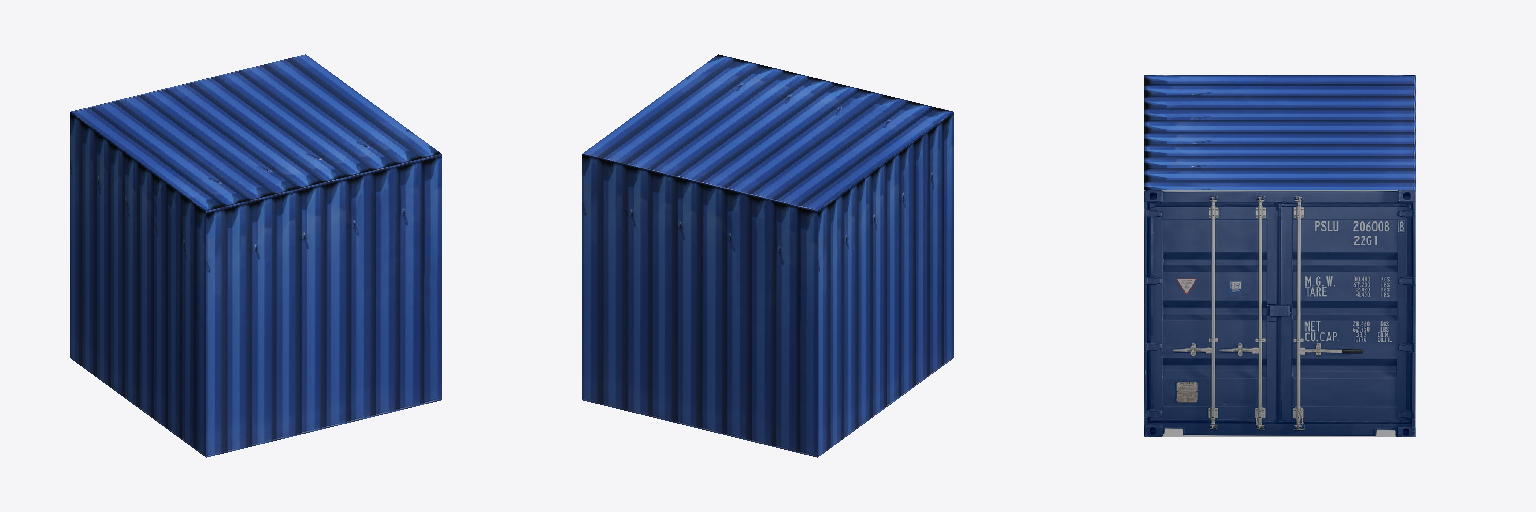
The picture shows the model from 3 angles: view 1: azimuth 30°, elevation 25°; view 2: azimuth 150°, elevation 25°; view 3: azimuth 270°, elevation 25°; orthographic projection.
Parts seen in each view (by area): view 1: Cube; view 2: Cube; view 3: Cube.
Boxes of the visible parts, x1,y1,x2,y2 form: Cube: [70, 54, 441, 457]; Cube: [582, 54, 953, 457]; Cube: [1144, 75, 1415, 436].
Size of the model in its own units: 2 by 2 by 2.
1 materials, 1 textured.